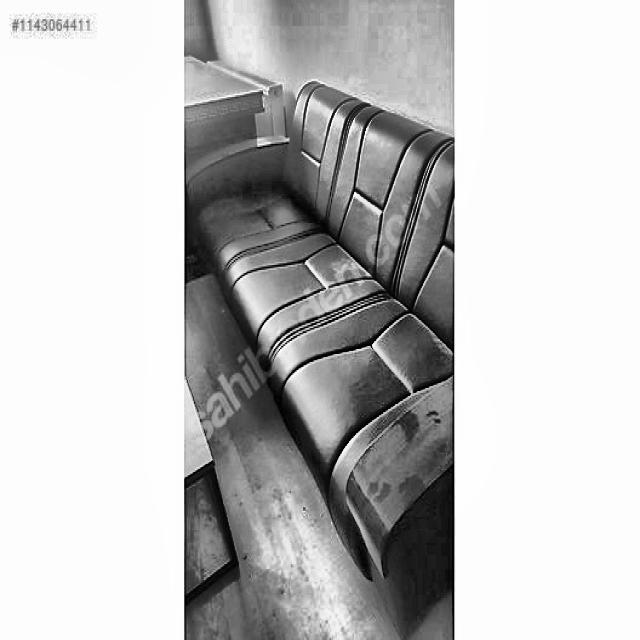sofa: (184, 76, 455, 638)
